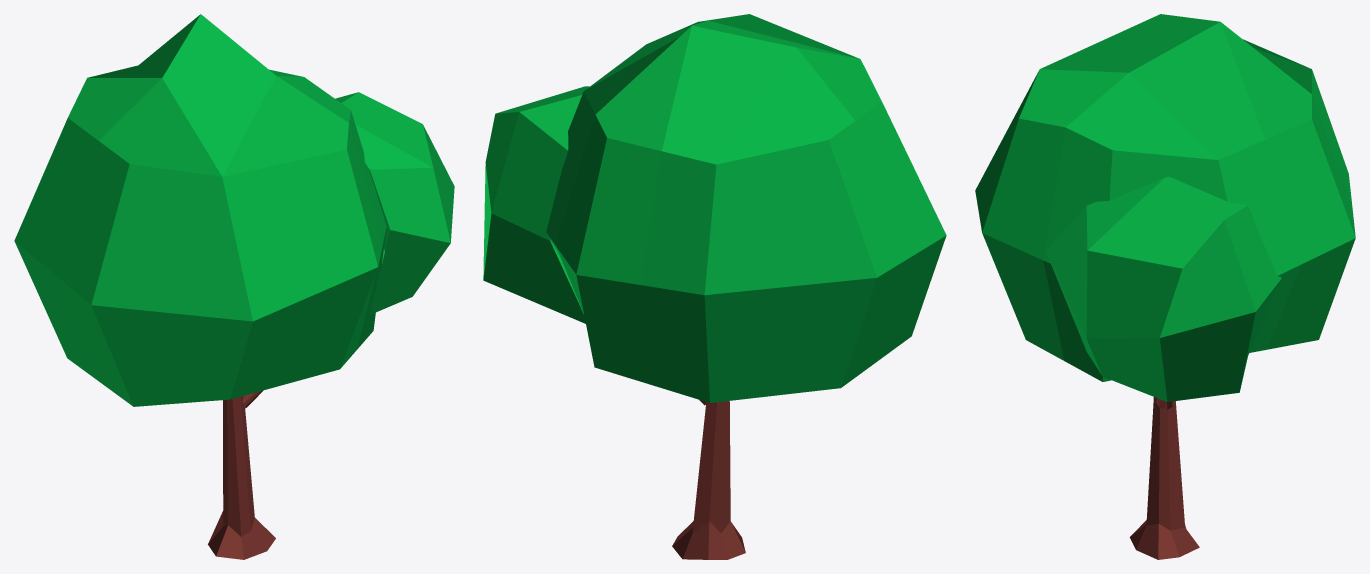
The model's file is Tree2.gltf.
The picture shows the model from 3 angles, left to right: view 1: azimuth 30°, elevation 25°; view 2: azimuth 150°, elevation 25°; view 3: azimuth 270°, elevation 25°; orthographic projection. The views are drawn at different scales.
Parts seen in each view (by area): view 1: Leaves, Leaves2, Trunk; view 2: Leaves, Leaves2, Trunk; view 3: Leaves, Leaves2, Trunk.
Boxes of the visible parts, x1=… form: Leaves: x1=14, y1=14, x2=386, y2=406; Leaves2: x1=335, y1=92, x2=454, y2=314; Trunk: x1=208, y1=396, x2=275, y2=559; Leaves: x1=546, y1=14, x2=946, y2=402; Leaves2: x1=483, y1=86, x2=589, y2=323; Trunk: x1=672, y1=401, x2=745, y2=559; Leaves: x1=975, y1=14, x2=1355, y2=381; Leaves2: x1=1045, y1=176, x2=1281, y2=401; Trunk: x1=1129, y1=397, x2=1199, y2=559.
Size of the model in its own units: 1.54 by 1.88 by 1.25.
Materials: 2 (2 with a texture image).
